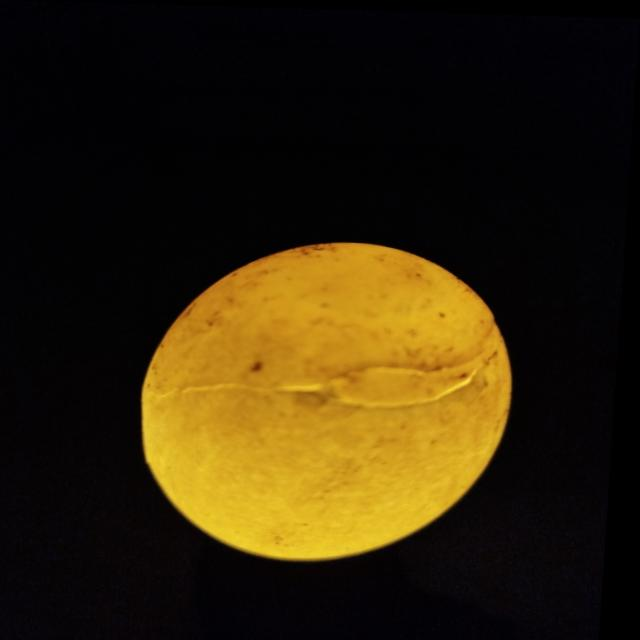Rachadura: (146, 312, 511, 411)
